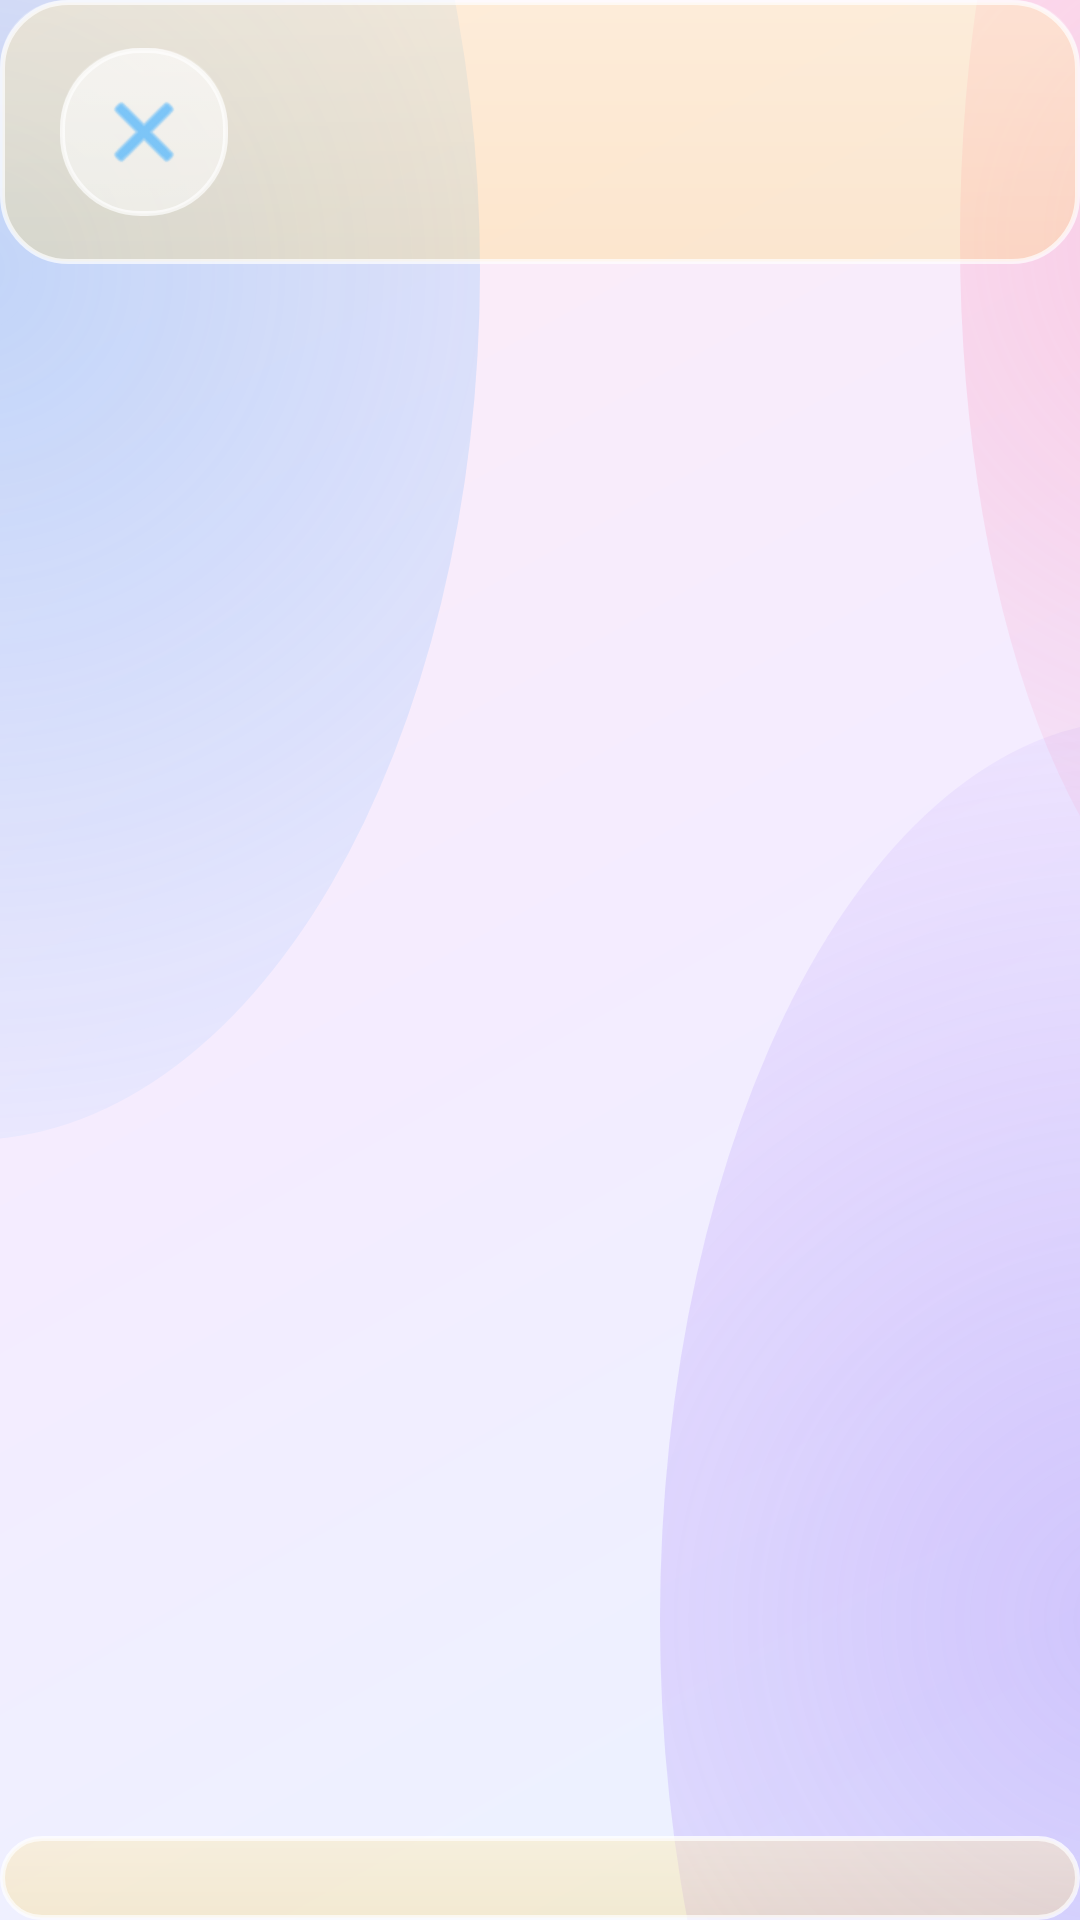

Screen size 1080 × 1920. Icon name, then its center in pixels as (x=x, y=y):
채팅 종료: (x=144, y=132)
